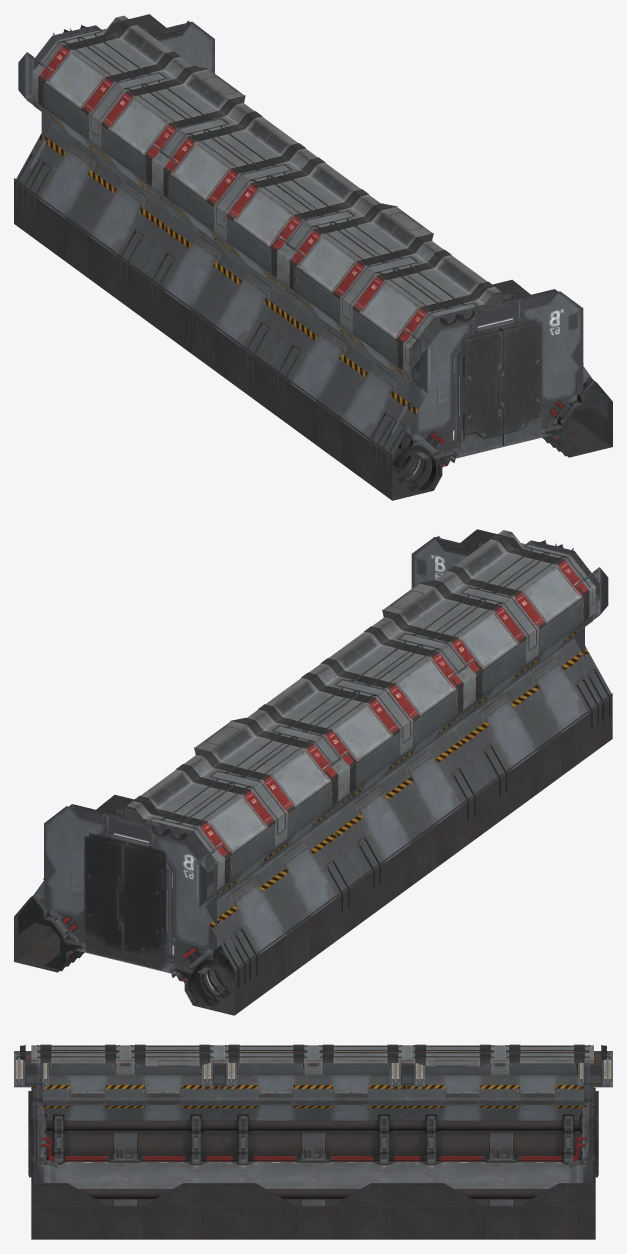
The model's file is corridor.glb.
3 views of the same model, one above another, from view 1: azimuth 30°, elevation 25°; view 2: azimuth 150°, elevation 25°; view 3: azimuth 270°, elevation 25° (orthographic). The views are drawn at different scales.
Parts seen in each view (by area): view 1: SciFiC_Wall_0, SciFiC_Floor_0, SciFiC_Doorway_Frame_0, SciFiC_Doorway_door_0, SciFiC_Column_B_0, SciFiC_Pipeframe_0; view 2: SciFiC_Wall_0, SciFiC_Floor_0, SciFiC_Doorway_Frame_0, SciFiC_Doorway_door_0, SciFiC_Column_B_0, SciFiC_Pipeframe_0; view 3: SciFiC_Floor_0, SciFiC_Wall_0, SciFiC_Pipes_A_0, SciFiC_Pipeframe_0, SciFiC_Column_B_0, SciFiC_Doorway_Frame_0, SciFiC_PipebranchBox_0, SciFiC_Doorway_door_0, SciFiC_Doorway_Pipes_0.
Boxes of the visible parts, x1,y1,x2,y2 form: SciFiC_Wall_0: [15, 15, 501, 457]; SciFiC_Floor_0: [14, 178, 612, 500]; SciFiC_Doorway_Frame_0: [30, 14, 592, 462]; SciFiC_Doorway_door_0: [461, 318, 542, 455]; SciFiC_Column_B_0: [18, 25, 481, 394]; SciFiC_Pipeframe_0: [16, 154, 608, 492]; SciFiC_Wall_0: [127, 530, 612, 971]; SciFiC_Floor_0: [14, 693, 612, 1015]; SciFiC_Doorway_Frame_0: [34, 529, 596, 977]; SciFiC_Doorway_door_0: [84, 833, 165, 970]; SciFiC_Column_B_0: [145, 540, 608, 909]; SciFiC_Pipeframe_0: [18, 668, 610, 1007]; SciFiC_Floor_0: [31, 1131, 595, 1239]; SciFiC_Wall_0: [31, 1044, 593, 1120]; SciFiC_Pipes_A_0: [63, 1120, 563, 1205]; SciFiC_Pipeframe_0: [41, 1114, 584, 1164]; SciFiC_Column_B_0: [14, 1045, 612, 1087]; SciFiC_Doorway_Frame_0: [31, 1063, 595, 1182]; SciFiC_PipebranchBox_0: [108, 1148, 518, 1162]; SciFiC_Doorway_door_0: [28, 1090, 598, 1177]; SciFiC_Doorway_Pipes_0: [41, 1137, 585, 1161].
Bounding box in the file's own units: 2.6 × 2.08 × 8.15.
Materials: 10 (10 with a texture image).
